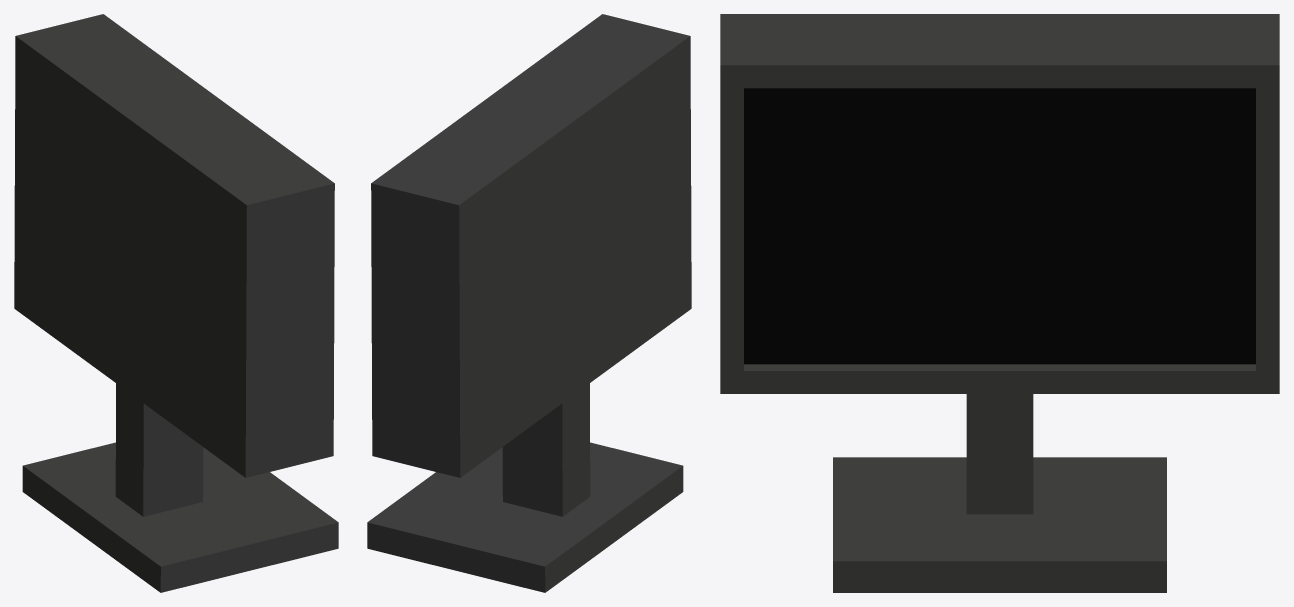
File: monitor.fbx
3 renders of one model, left to right at view 1: azimuth 30°, elevation 25°; view 2: azimuth 150°, elevation 25°; view 3: azimuth 270°, elevation 25°, orthographic. The views are drawn at different scales.
Parts seen in each view (by area): view 1: komputer.003; view 2: komputer.003; view 3: komputer.003.
Part boxes in pixels (box(x1,y1,x2,y2)): komputer.003: box(14, 14, 338, 592); komputer.003: box(367, 14, 691, 592); komputer.003: box(720, 14, 1279, 592).
Size of the model in its own units: 334 by 148 by 329.
